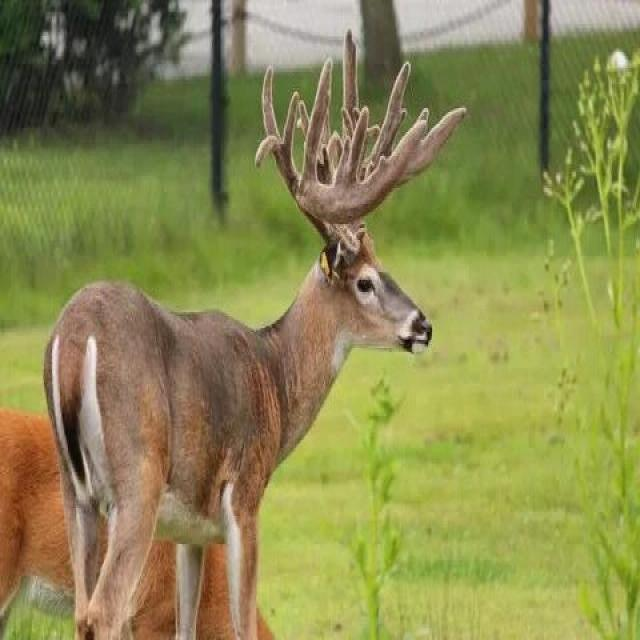deer: (88, 59, 476, 618)
